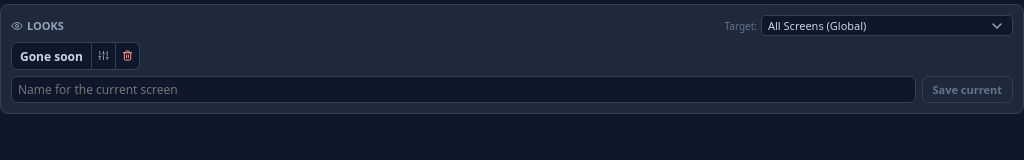
Test: LooksControl › shows why a look could not be applied or saved
The width and height of the screenshot is (1024, 160).
Click the button with test id "look-apply".
click(51, 56)  # box [11,42,92,70]
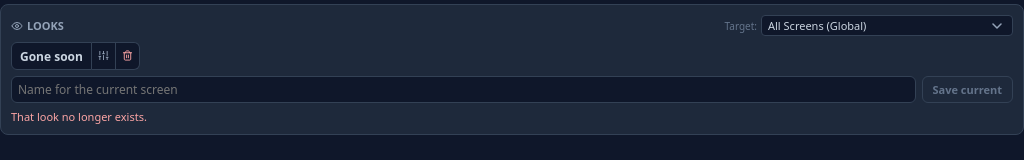
expect the message with test id "look-error" shows "no longer exists": met, box [11,109,147,124]
Type "X" into the field with test id "look-name".
click(463, 90); type("X")  # box [11,76,916,103]
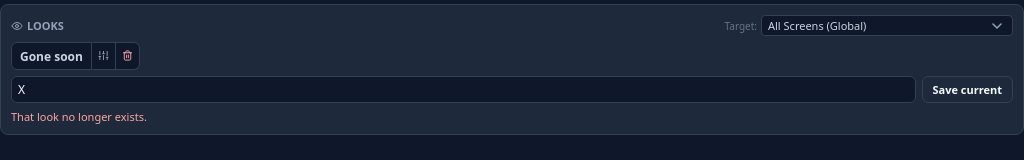
Click the button with test id "look-save".
click(967, 90)  # box [922,76,1013,103]
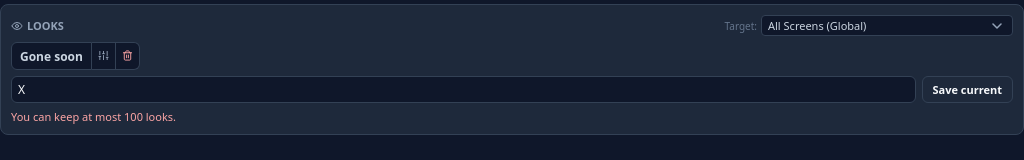
expect the message with test id "look-error" shows "at most 100": met, box [11,109,176,124]
